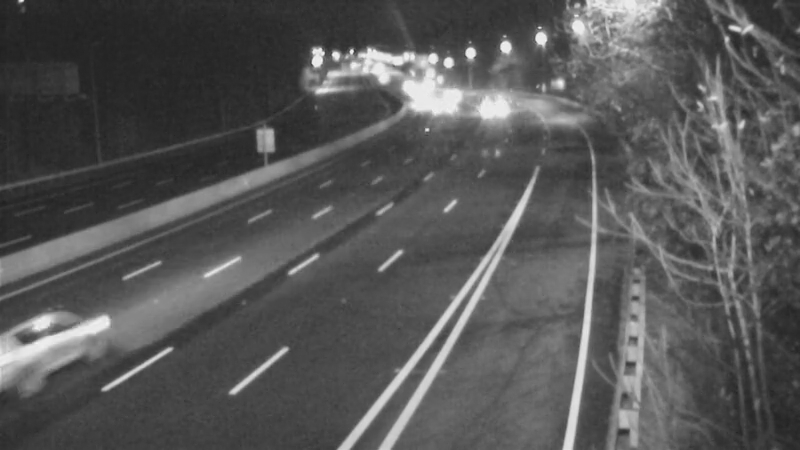vehicle: (1, 289, 109, 399), (429, 69, 479, 119), (394, 81, 444, 131), (467, 84, 517, 134), (414, 84, 464, 134)
